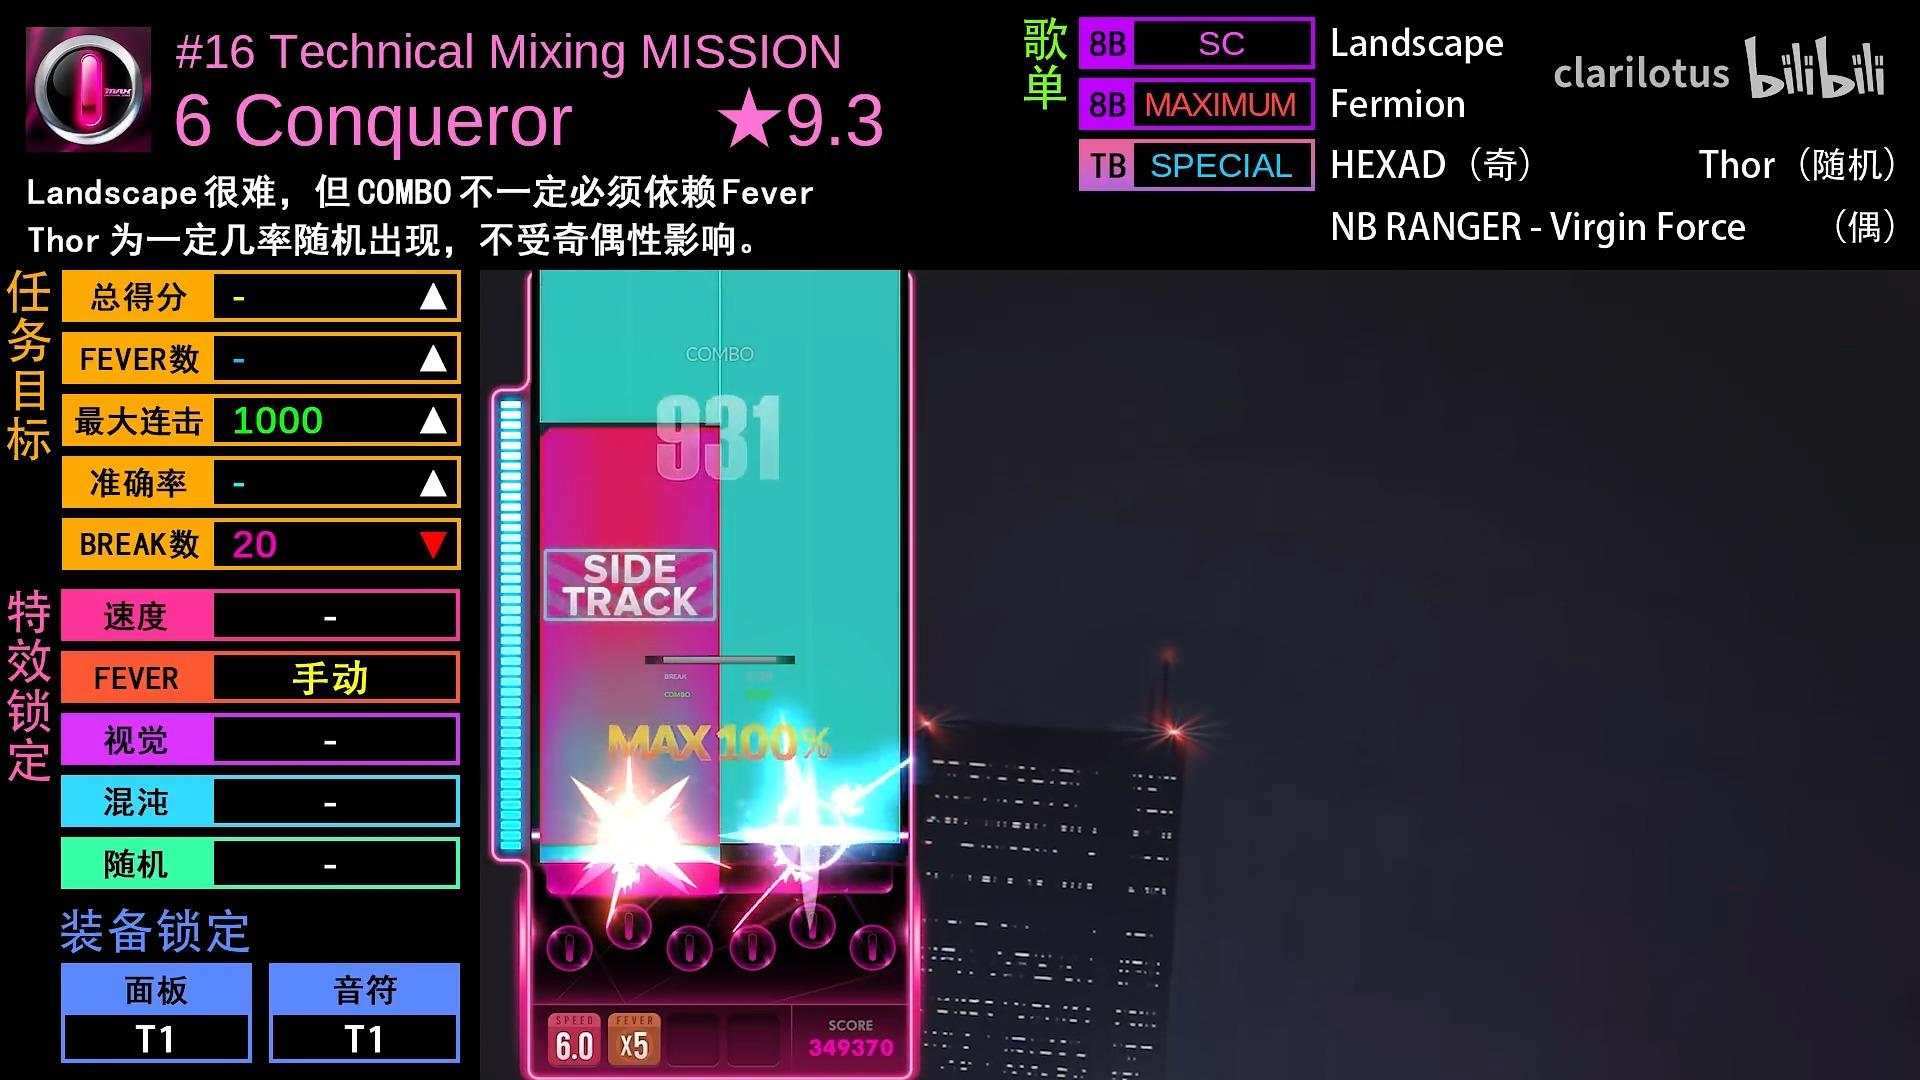side-start: (541, 401, 719, 422)
xend: (541, 427, 720, 451)
